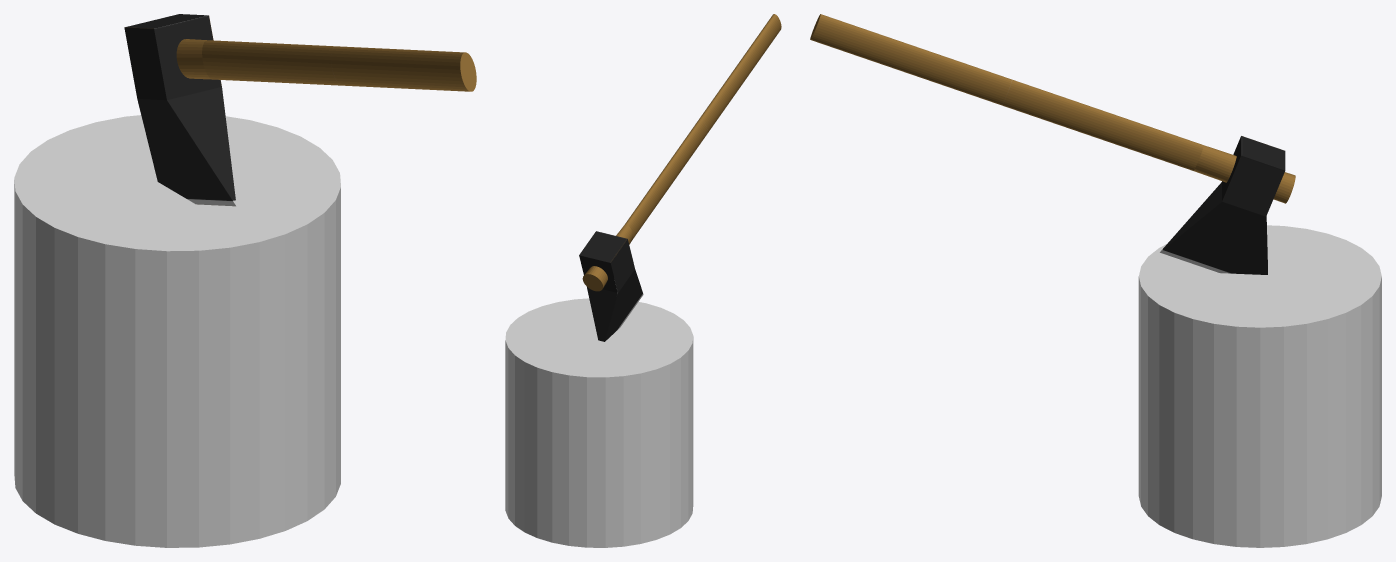
The model's file is axe.fbx.
The picture shows the model from 3 angles, left to right: view 1: azimuth 30°, elevation 25°; view 2: azimuth 150°, elevation 25°; view 3: azimuth 270°, elevation 25°; orthographic projection. The views are drawn at different scales.
Parts seen in each view (by area): view 1: Cylinder, Cube; view 2: Cylinder, Cube; view 3: Cylinder, Cube.
Part boxes in pixels (x1,y1,x2,y2): Cylinder: (14,115,340,547); Cube: (124,14,476,206); Cylinder: (505,298,693,547); Cube: (579,14,781,341); Cylinder: (1138,225,1381,547); Cube: (810,14,1295,274).
Size of the model in its own units: 1031 by 2242 by 2425.
2 materials, 1 textured.
